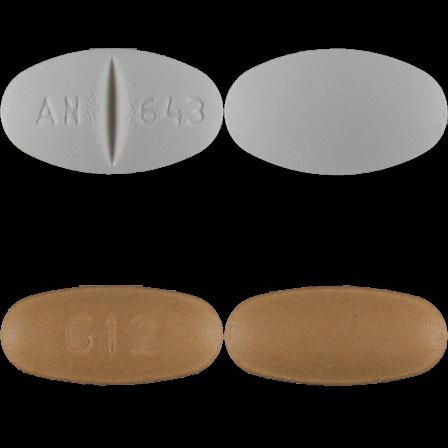65162-643: (0, 0, 224, 224)
